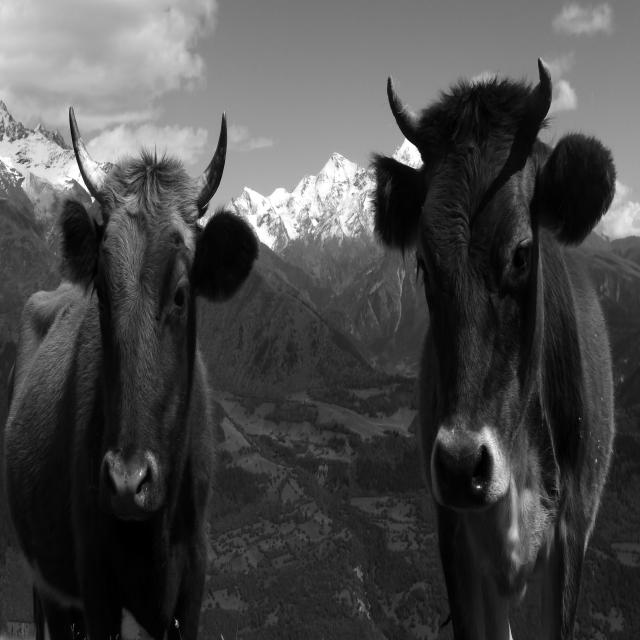cow: (371, 60, 615, 638), (5, 109, 259, 640)
